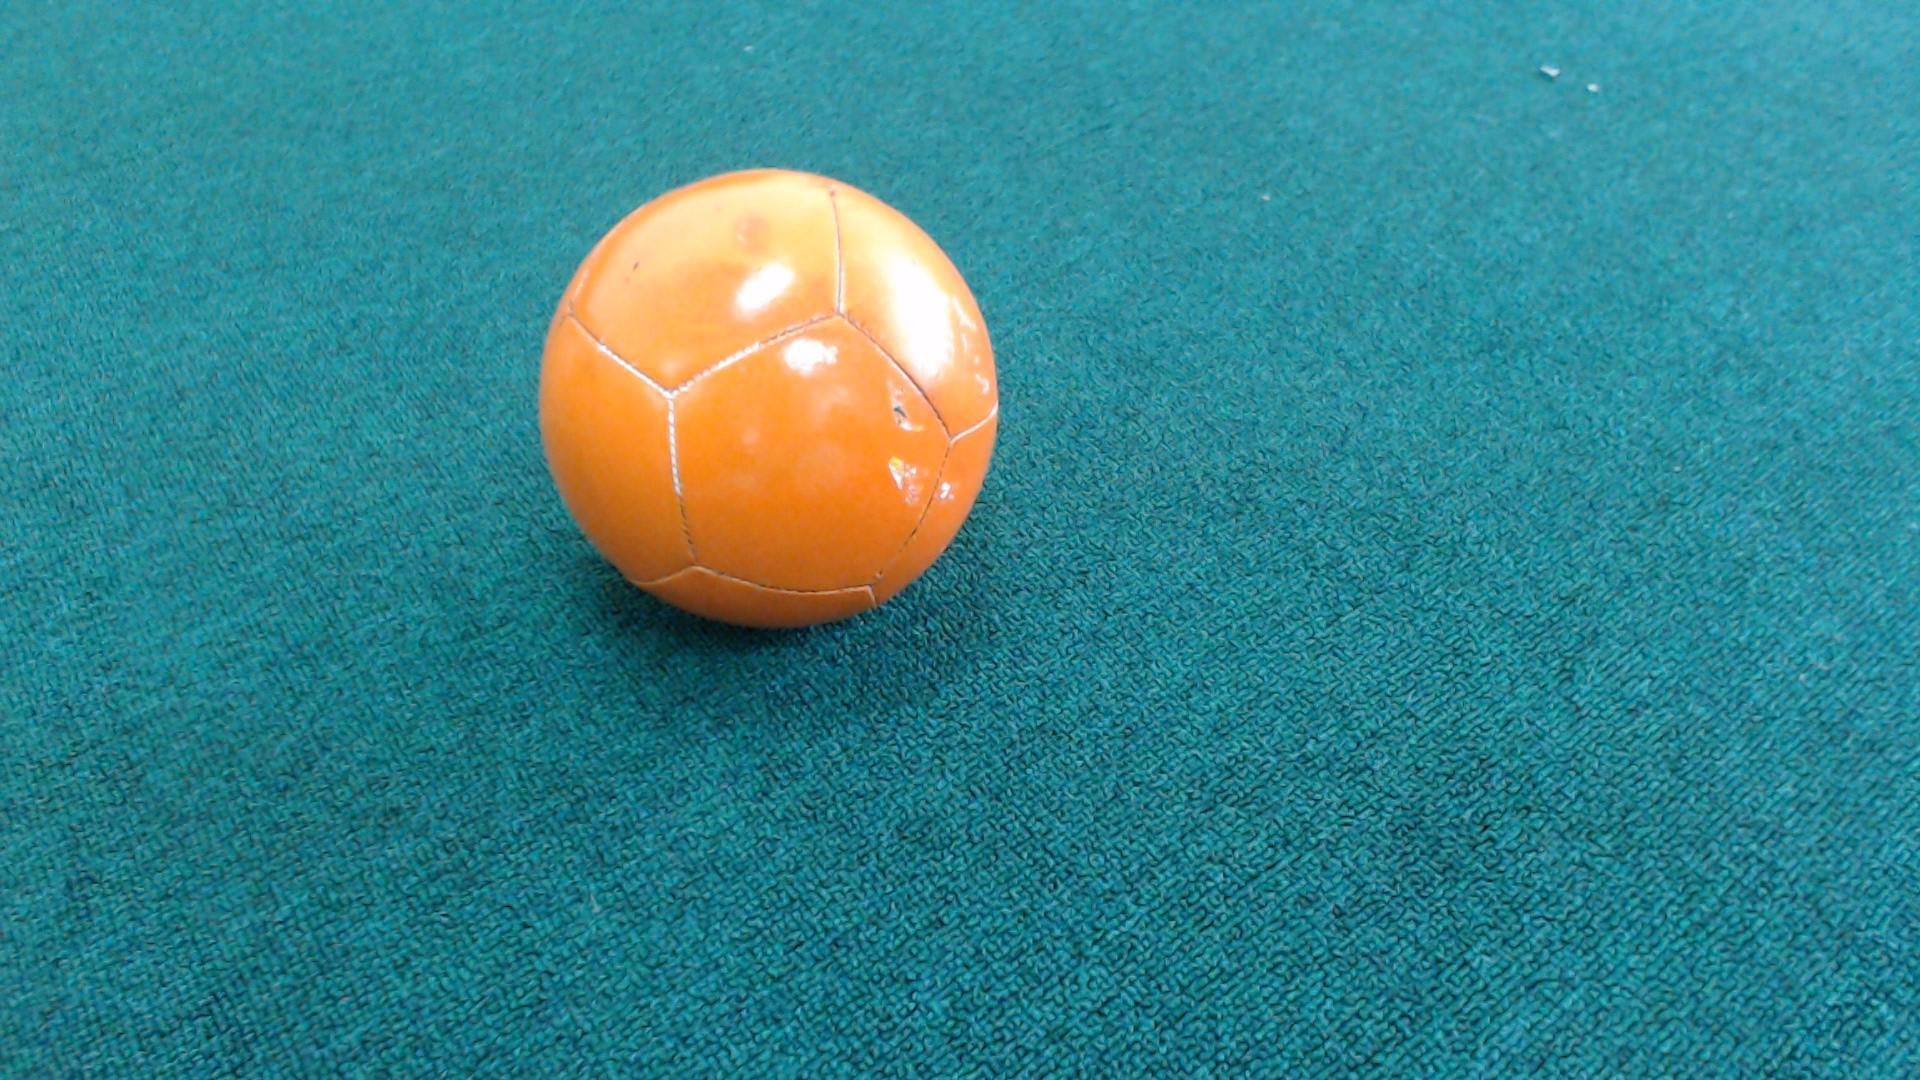bola: (516, 149, 1025, 633)
